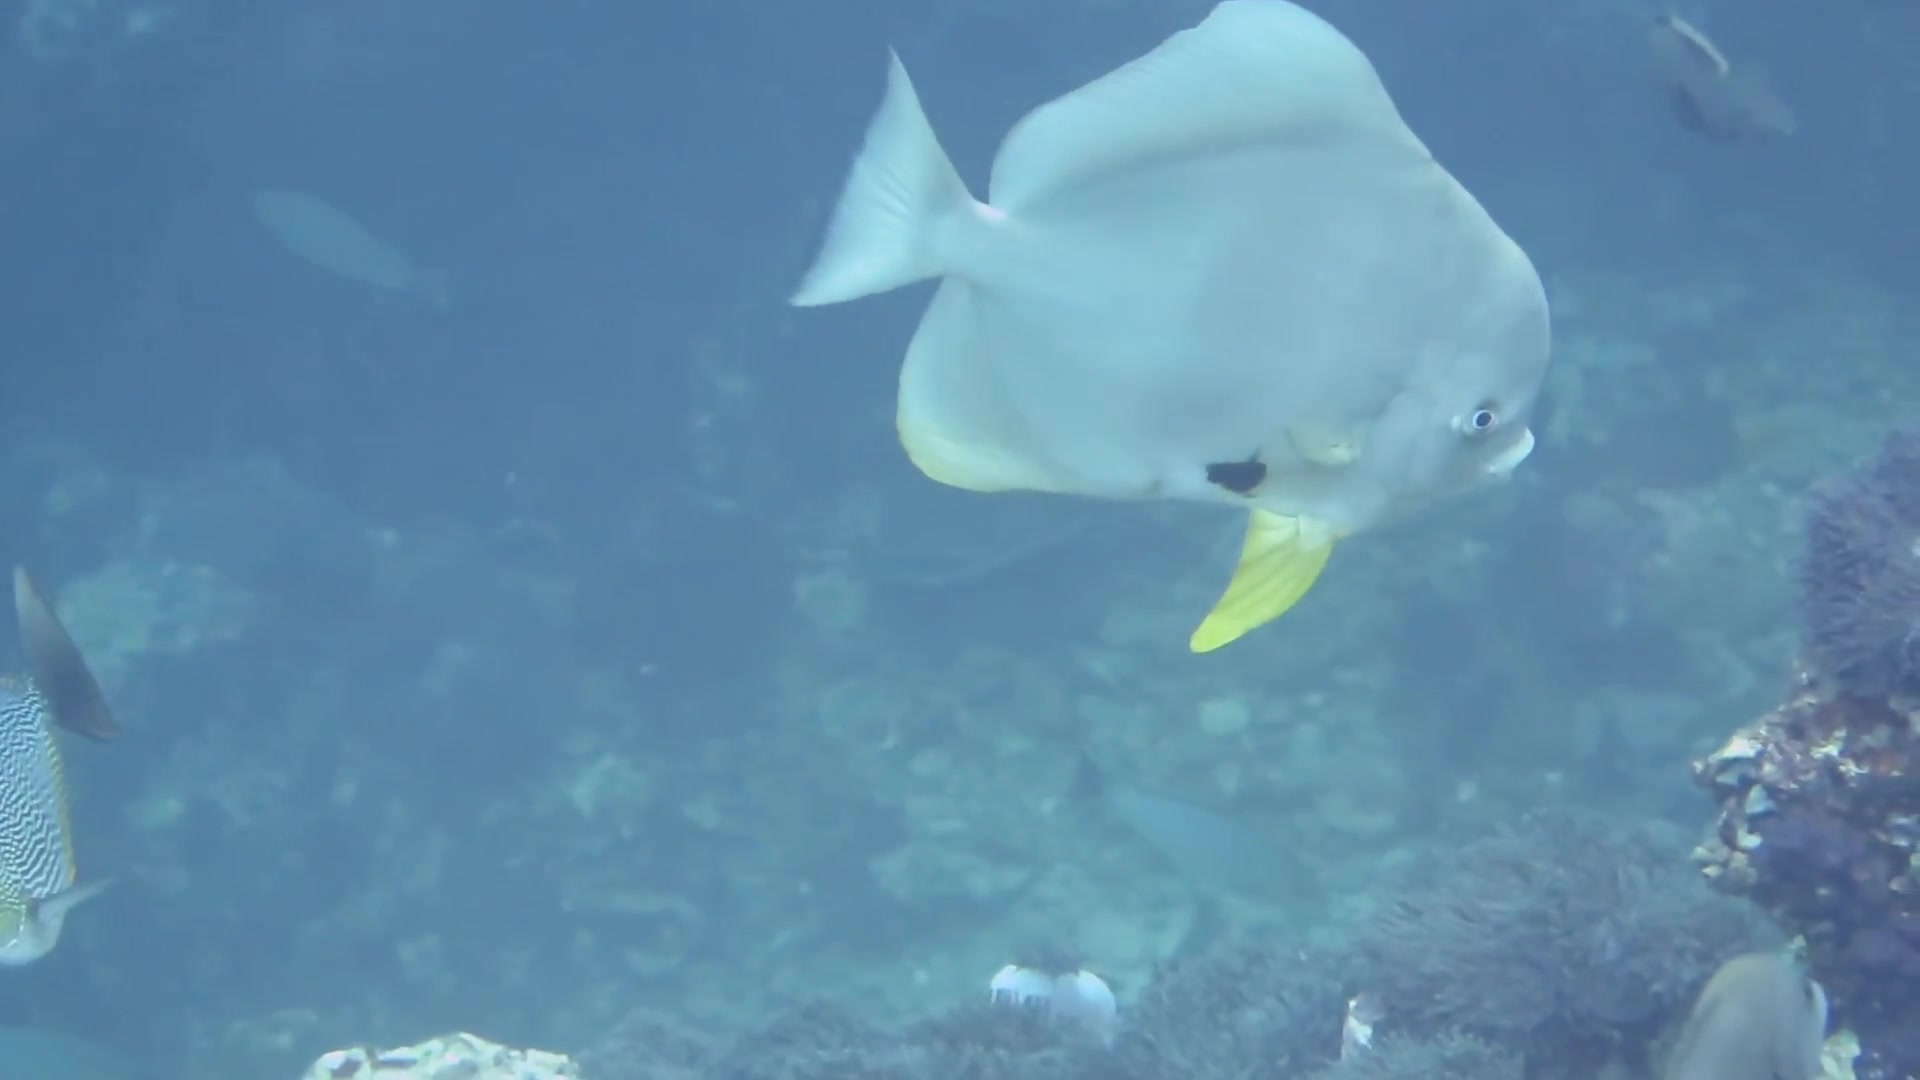Platax teira: (738, 1, 1655, 779)
